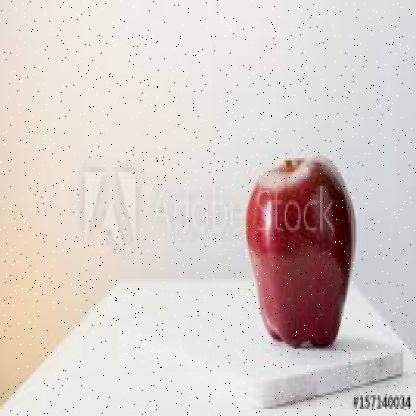apple: (243, 158, 351, 353)
